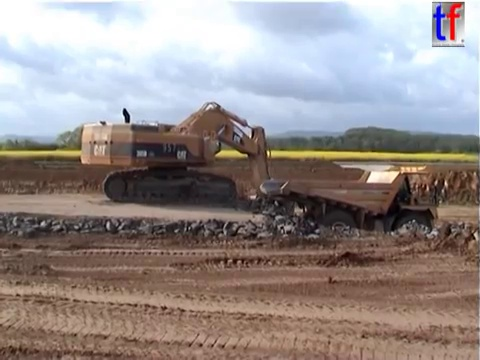excavator: (77, 99, 290, 225)
truck: (257, 162, 446, 252)
